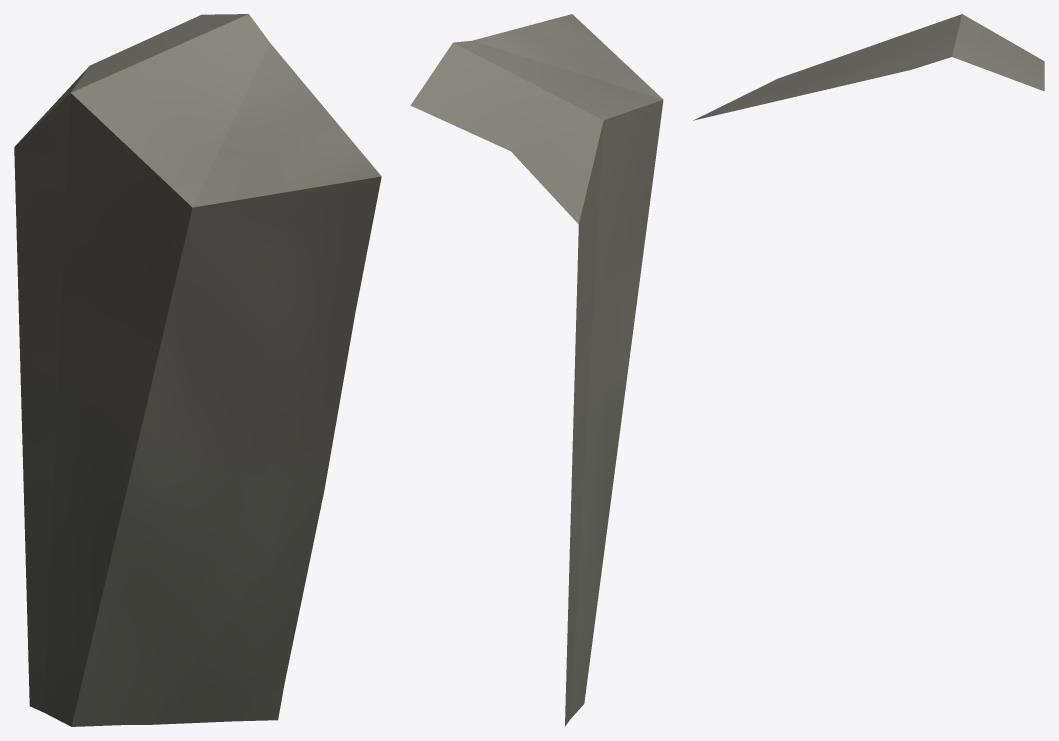
3 views of the same model, side by side, from view 1: azimuth 30°, elevation 25°; view 2: azimuth 150°, elevation 25°; view 3: azimuth 270°, elevation 25° (orthographic). The views are drawn at different scales.
Bounding box in the file's own units: 0.1404 × 0.4904 × 0.2338.
Materials: 1 (1 with a texture image).
